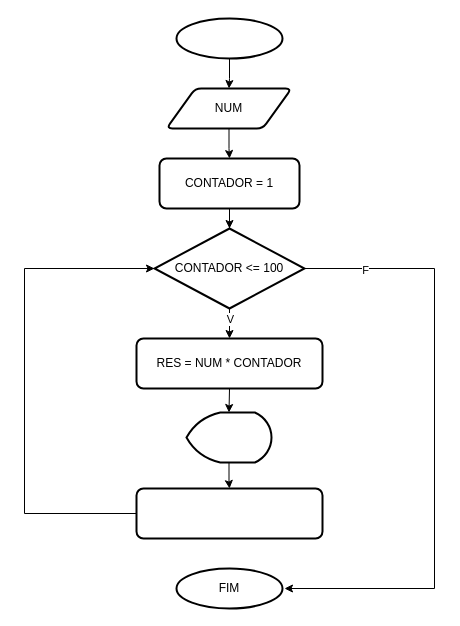
Image size: 460x626. Some labels were removed from this diagram. Each missing label, with the centre of its shape:
"ADD 2 TO CONTADOR" goes at (229,513).
"INICIO" goes at (229,38).
"RES" goes at (228,437).
